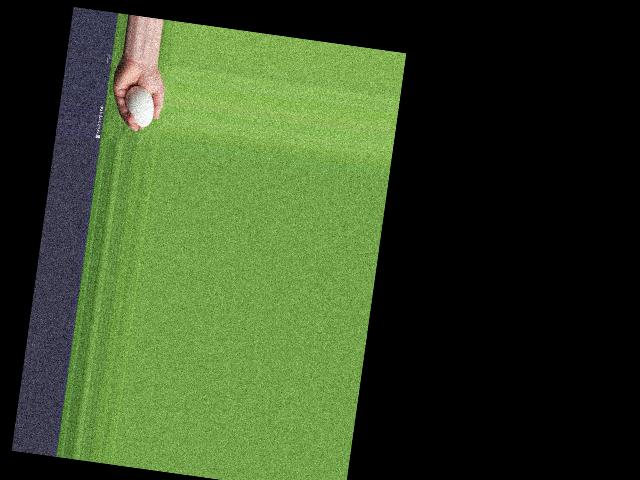egg: (121, 83, 157, 127)
